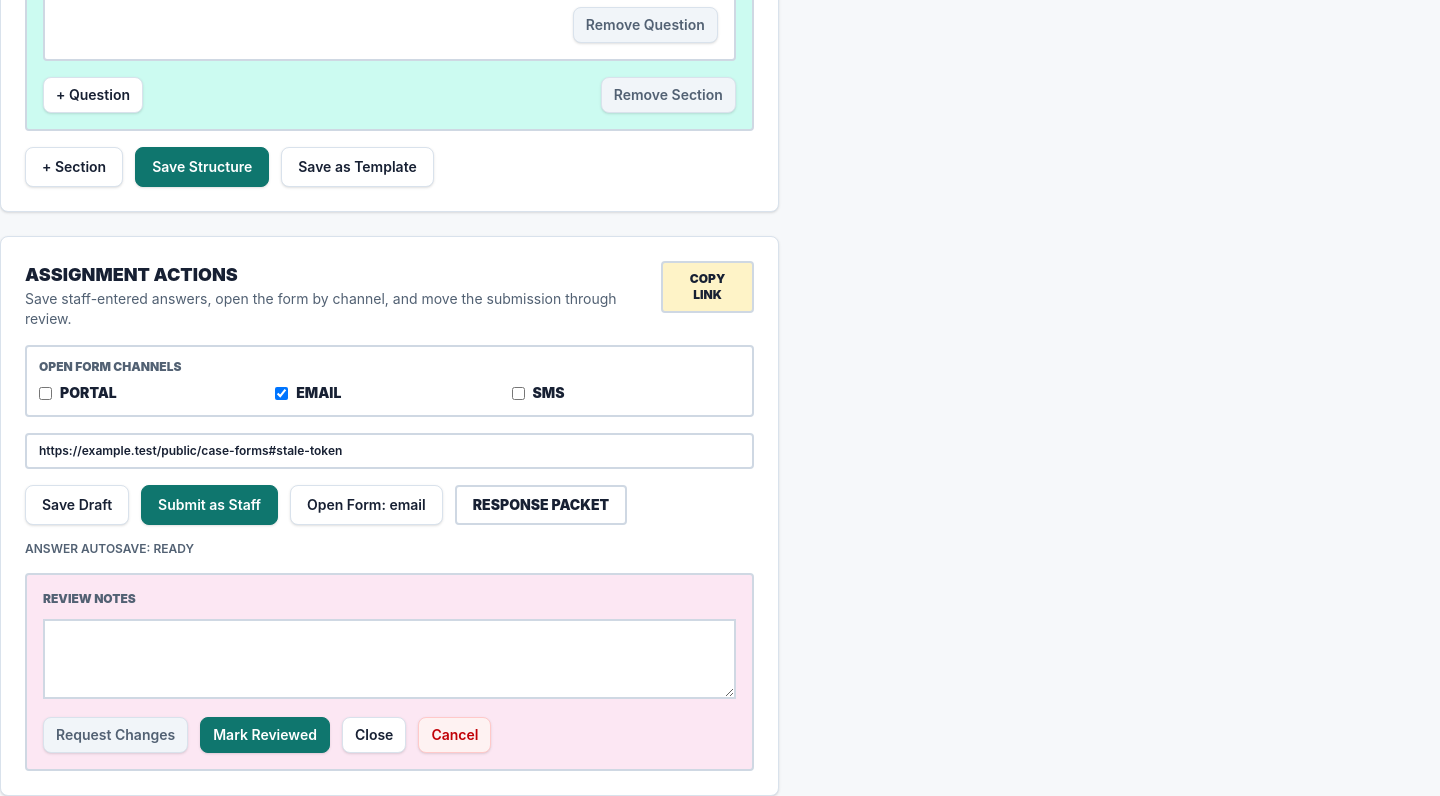
Test: CaseFormsPanel › sends selected delivery channels and hides stale secure links after a portal-only send
(page scrolled)
Expected: the button "Copy Link" is shown, [661,261,754,313]
Click the checkbox labelled "portal".
click(46, 393)  # box [39,386,52,400]
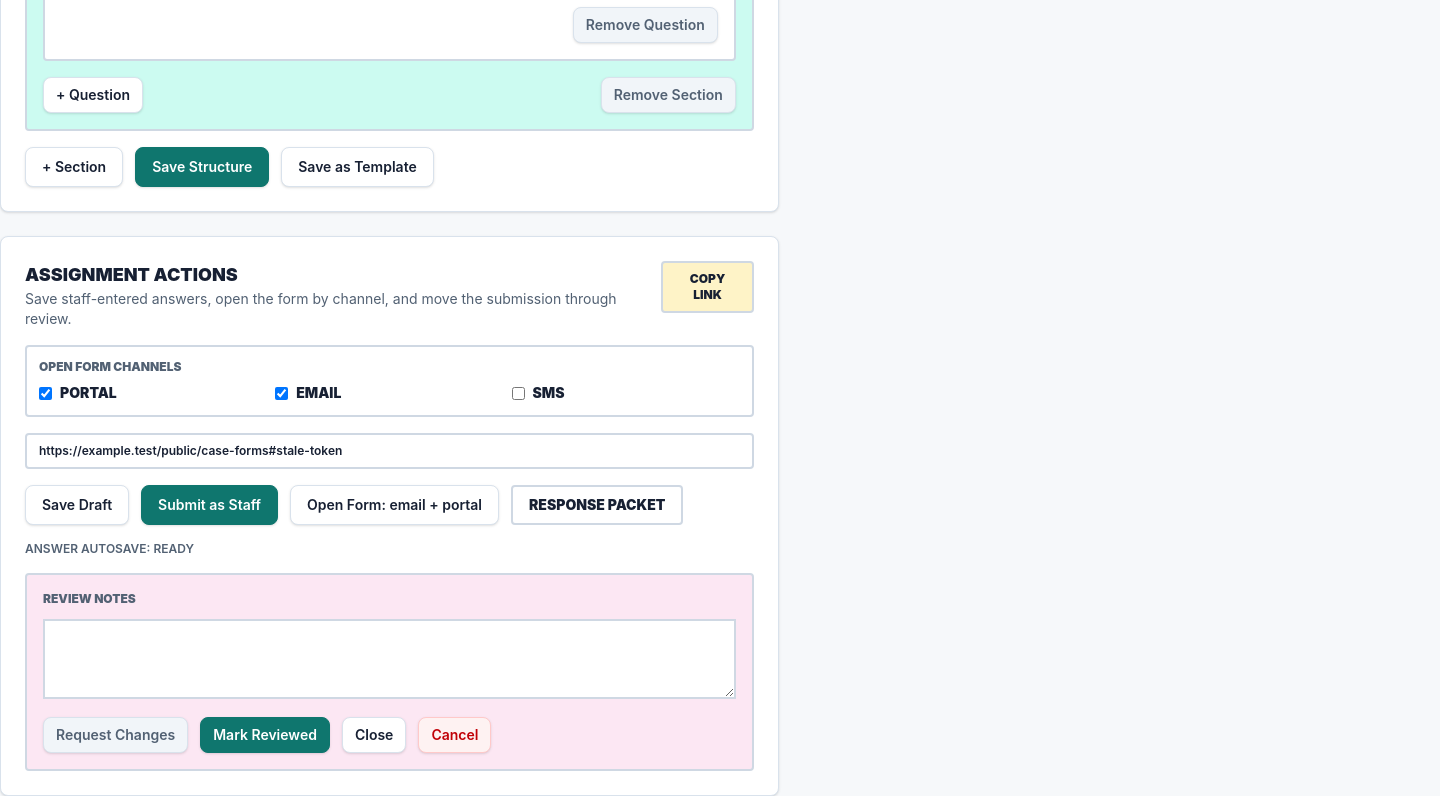
Click the checkbox labelled "email".
click(282, 393)  # box [275,386,288,400]
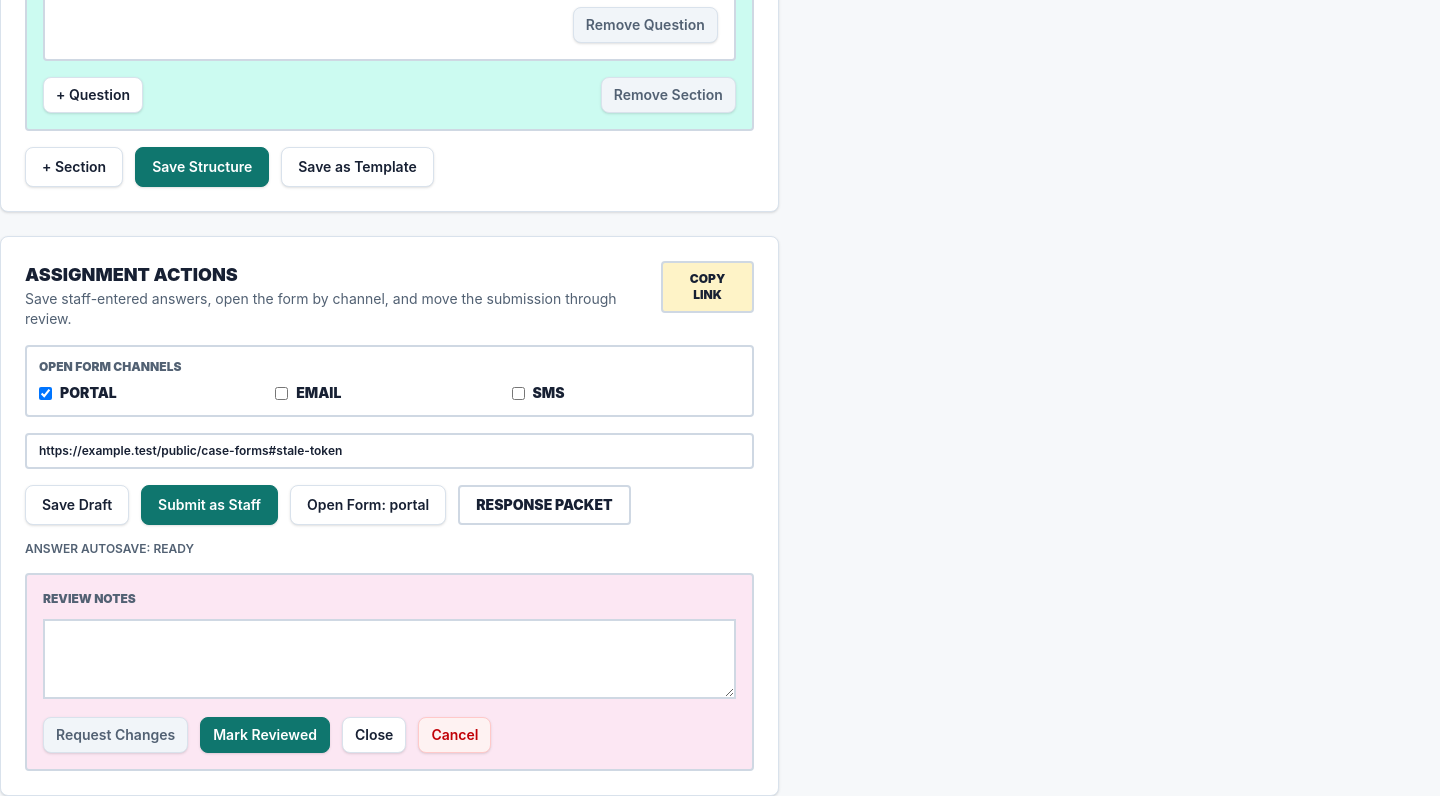
Click the button "Open Form: portal".
click(368, 505)  # box [290,485,446,525]
(page scrolled)
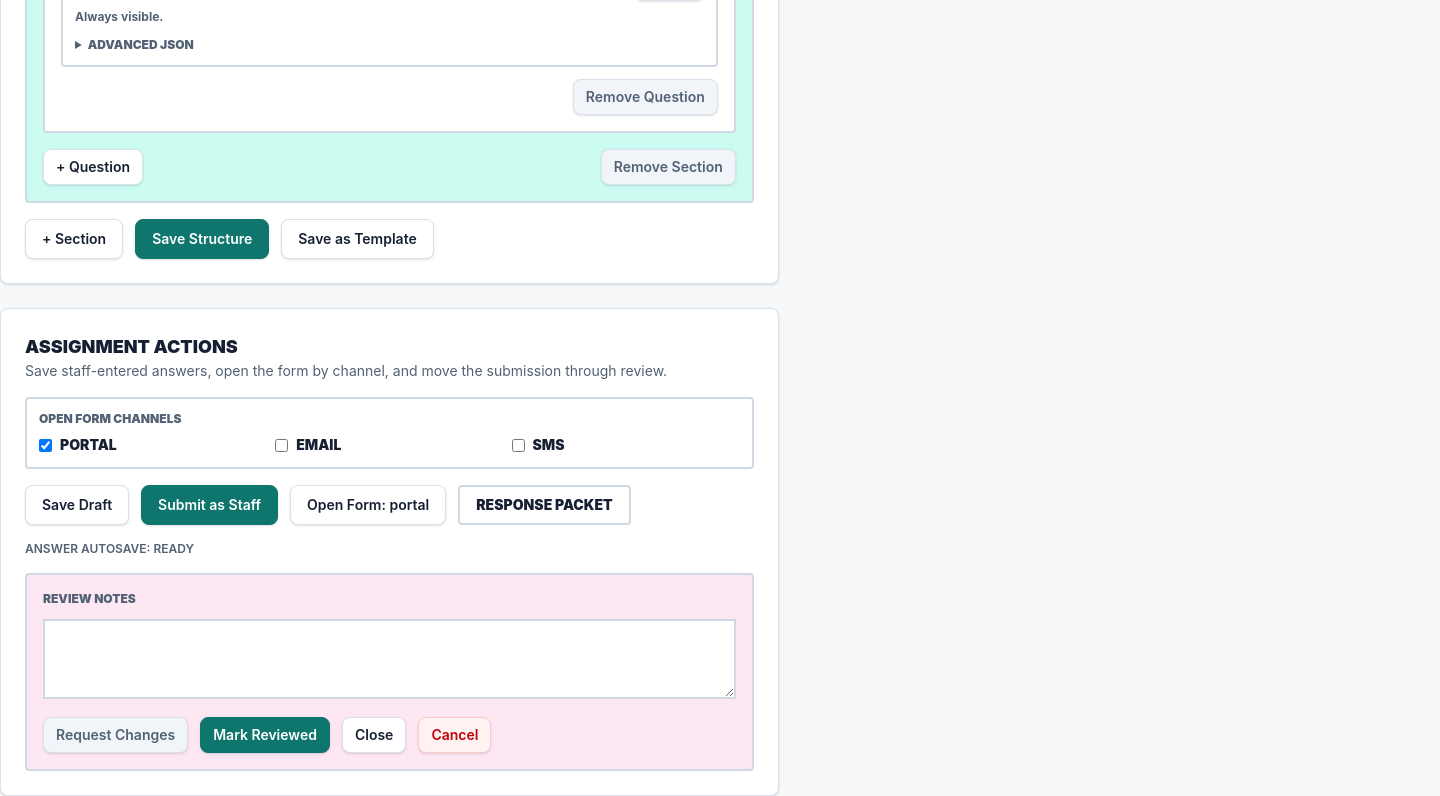
Result: the button "Copy Link" is gone
